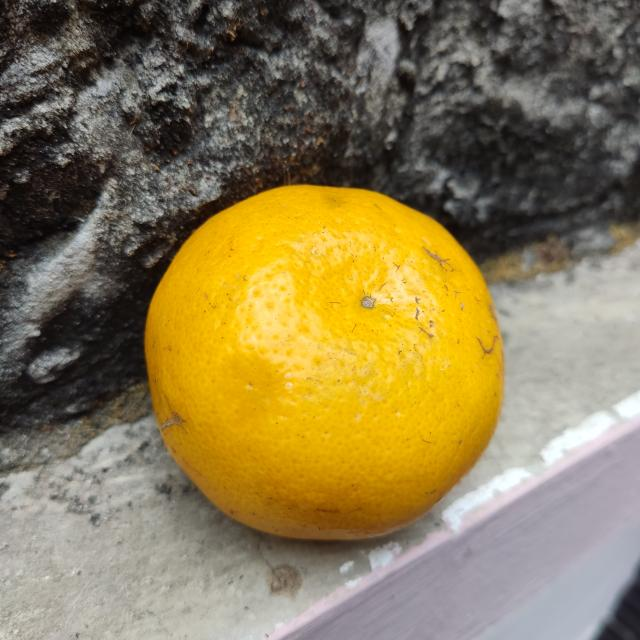orange: (142, 182, 509, 546)
